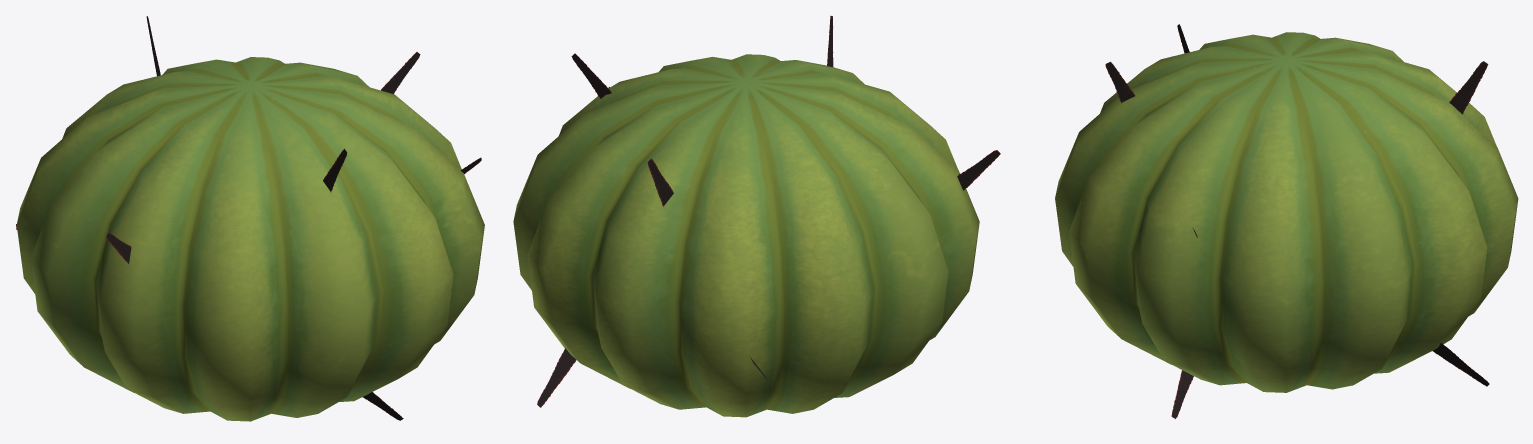
File: acactus4.fbx
The picture shows the model from 3 angles, left to right: view 1: azimuth 30°, elevation 25°; view 2: azimuth 150°, elevation 25°; view 3: azimuth 270°, elevation 25°; orthographic projection.
Parts seen in each view (by area): view 1: 4, 4ci; view 2: 4, 4ci; view 3: 4, 4ci.
Boxes of the visible parts, box(x1,y1,x2,y2) form: 4: box(16, 57, 484, 421); 4ci: box(16, 16, 481, 420); 4: box(513, 54, 979, 417); 4ci: box(537, 16, 1000, 407); 4: box(1055, 32, 1518, 392); 4ci: box(1105, 24, 1489, 418).
Bounding box in the file's own units: 214 × 205 × 168.
